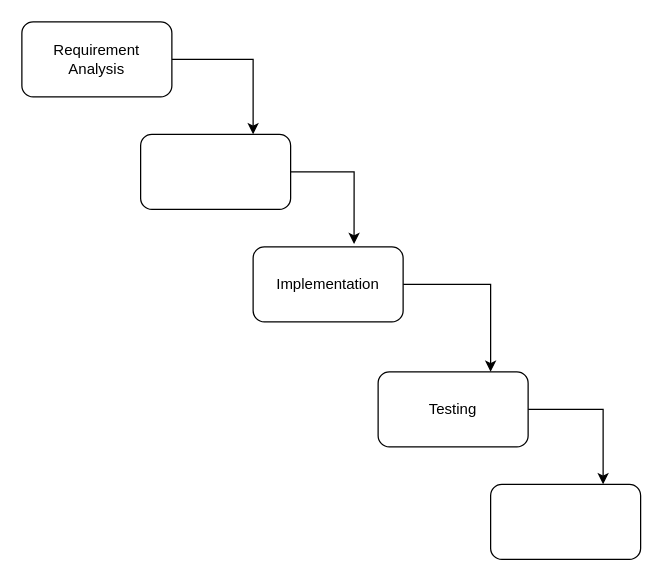
The diagram is 663 pixels wide and 581 high, and some of its shapes have lost their labels. The shapes that lost their labels are listed below. From the top down, each one's centre as x and y in pixels, then its label:
[215,171]: System Design
[565,521]: Deployment
